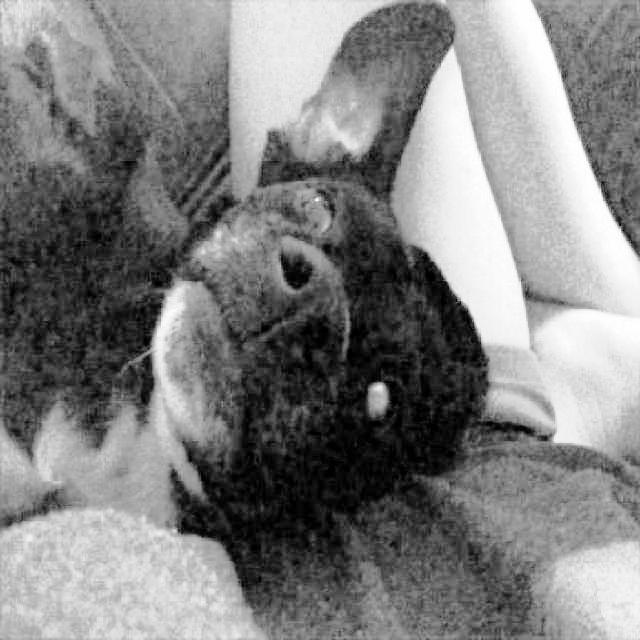Dog: (43, 0, 498, 532)
